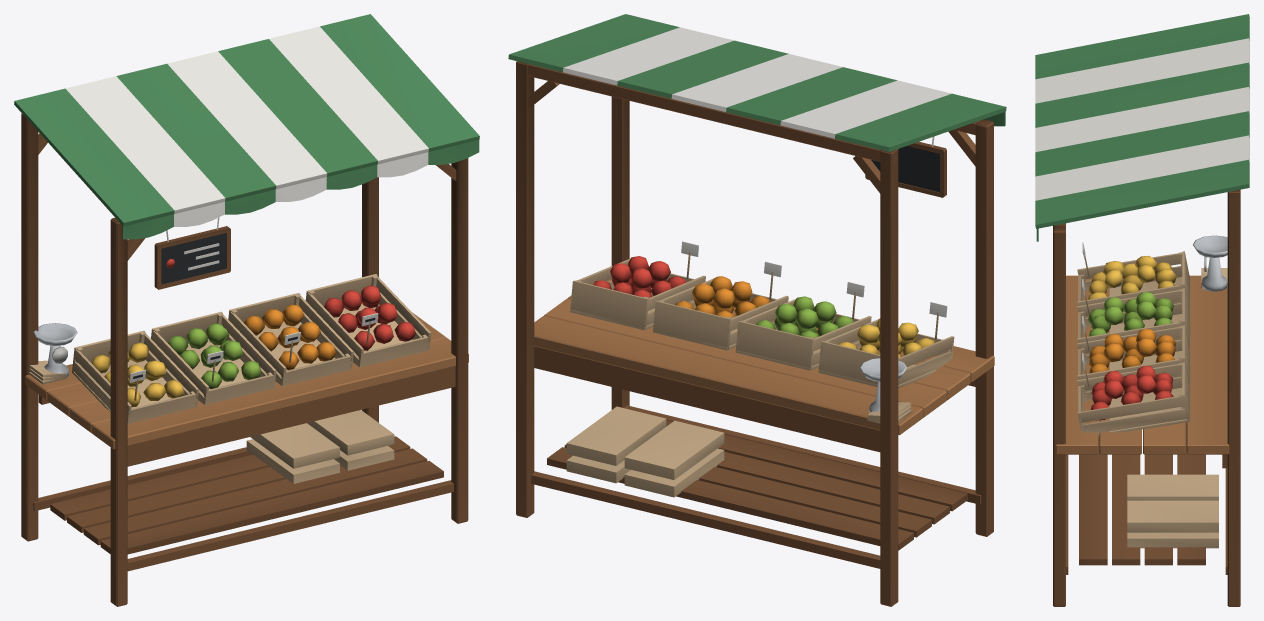
Rendered from marketStall.glb.
3 renders of one model, left to right at view 1: azimuth 30°, elevation 25°; view 2: azimuth 150°, elevation 25°; view 3: azimuth 270°, elevation 25°, orthographic. The views are drawn at different scales.
Parts seen in each view (by area): view 1: marketStall; view 2: marketStall; view 3: marketStall.
Boxes of the visible parts, left/top/right/bottom form: marketStall: left=14, top=14, right=479, bottom=606; marketStall: left=508, top=14, right=1006, bottom=606; marketStall: left=1035, top=14, right=1249, bottom=606.
Size of the model in its own units: 1.84 by 2.14 by 0.9823.
